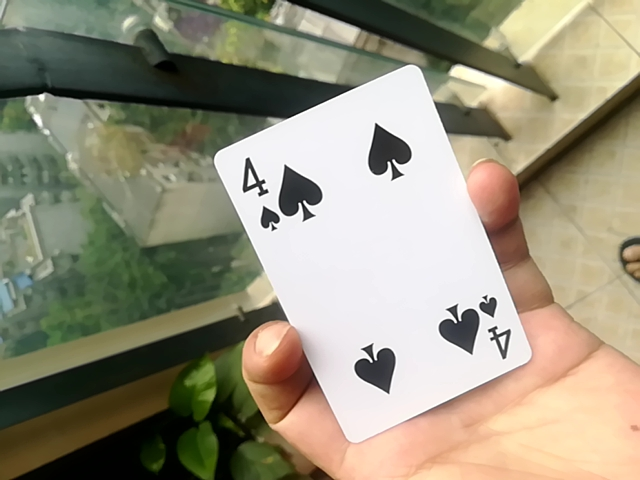ht 4: (222, 63, 524, 446)
